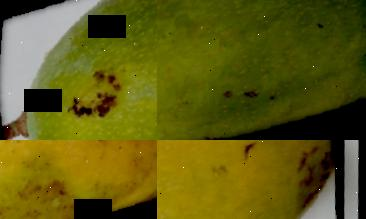PartiallyRipe: (157, 140, 347, 219)
Ripe: (0, 140, 157, 219)
Unripe: (157, 0, 366, 140), (0, 0, 157, 140)
